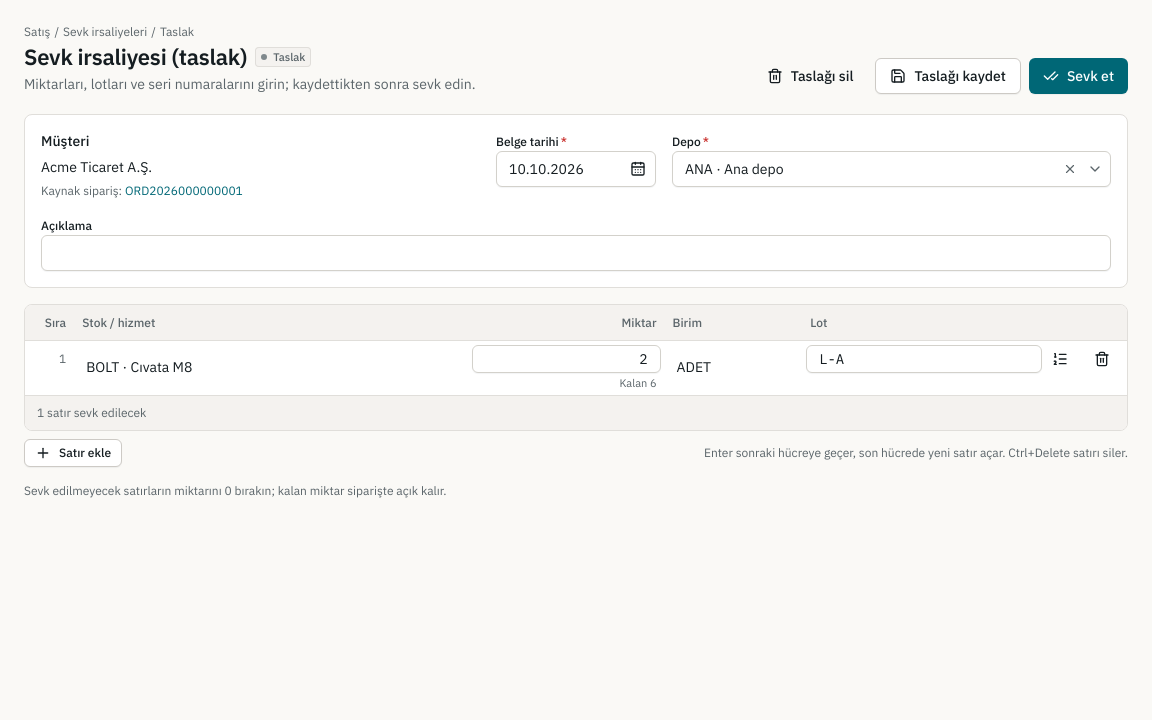
it: delivery editor › offers a reload when someone else saved the draft first
Expected: the heading "Sevk irsaliyesi (taslak)" is shown, left=24, top=42, right=247, bottom=72
Type "not" into the field labelled "Açıklama" at (576, 253), box left=41, top=235, right=1111, bottom=271
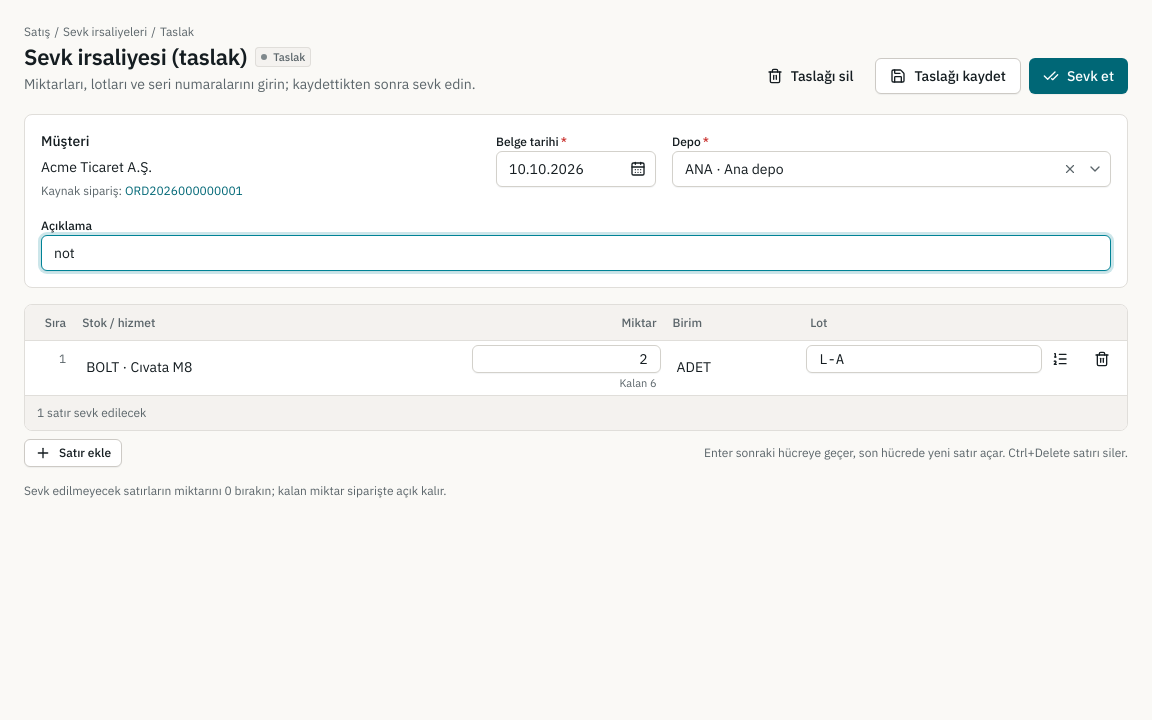
Click the button "Taslağı kaydet" at (948, 76), box left=875, top=58, right=1021, bottom=94
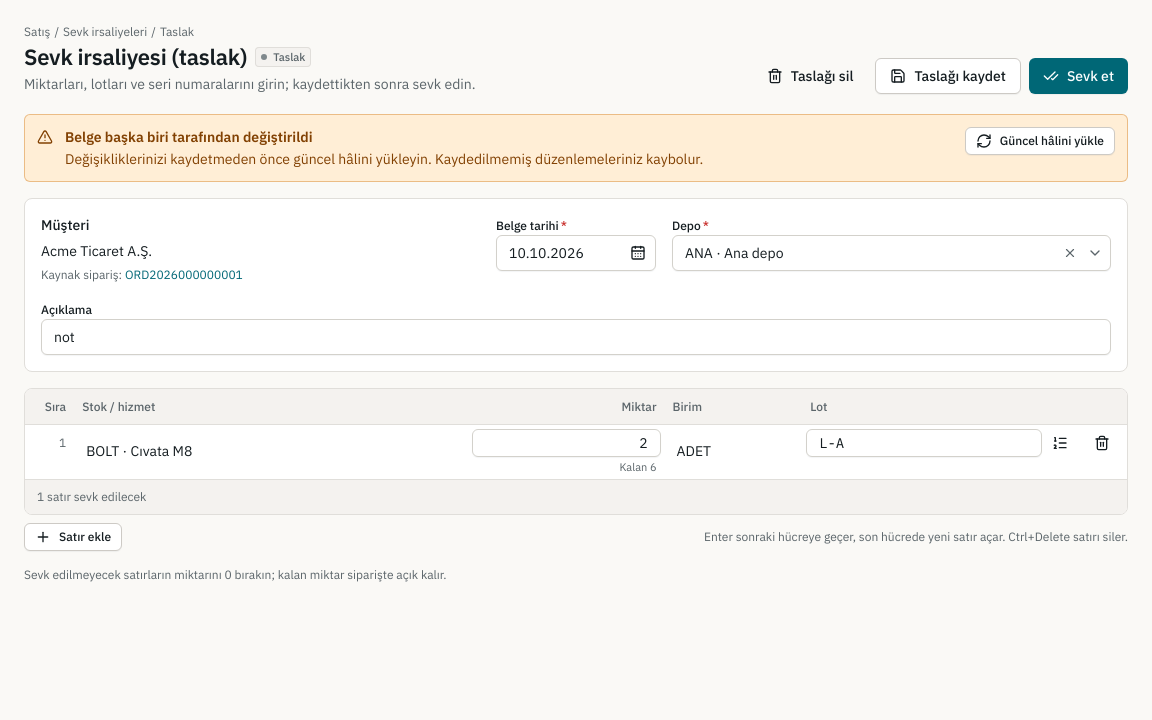
Expected: the text "Belge başka biri tarafından değiştirildi" is shown, left=65, top=128, right=312, bottom=146
Click the button "Güncel hâlini yükle" at (1040, 141), box left=965, top=127, right=1115, bottom=155
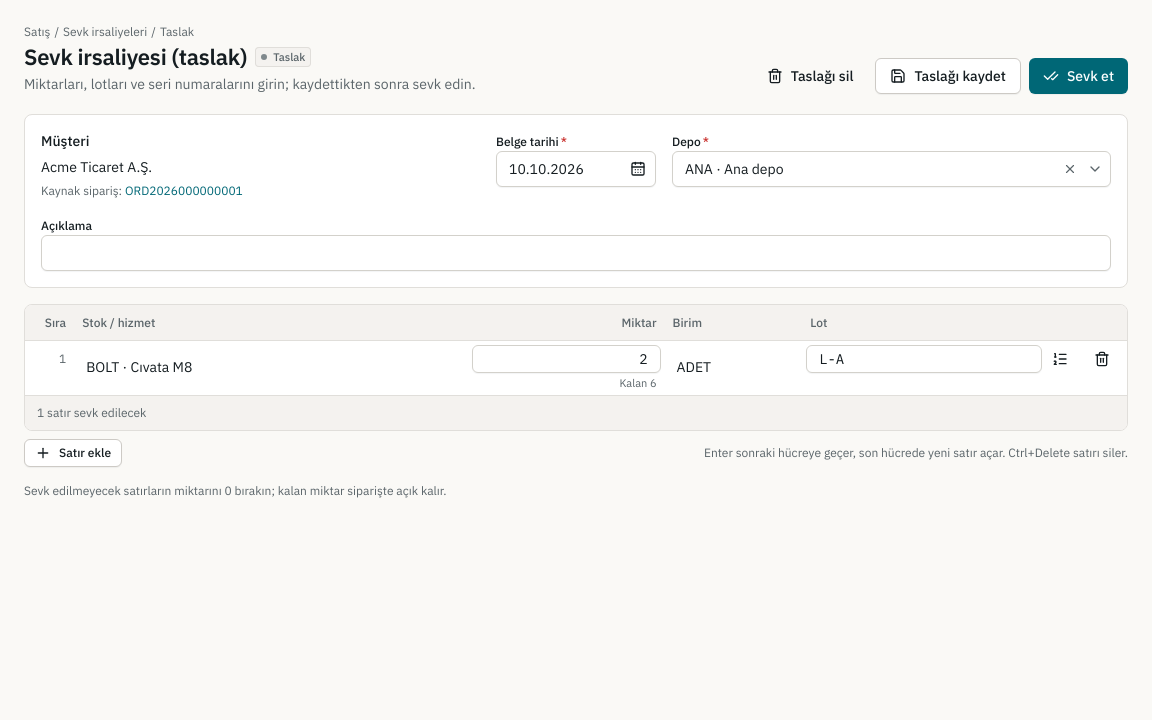
Expected: the text "Belge başka biri tarafından değiştirildi" is gone
Expected: the field labelled "Açıklama" is empty, left=41, top=235, right=1111, bottom=271
